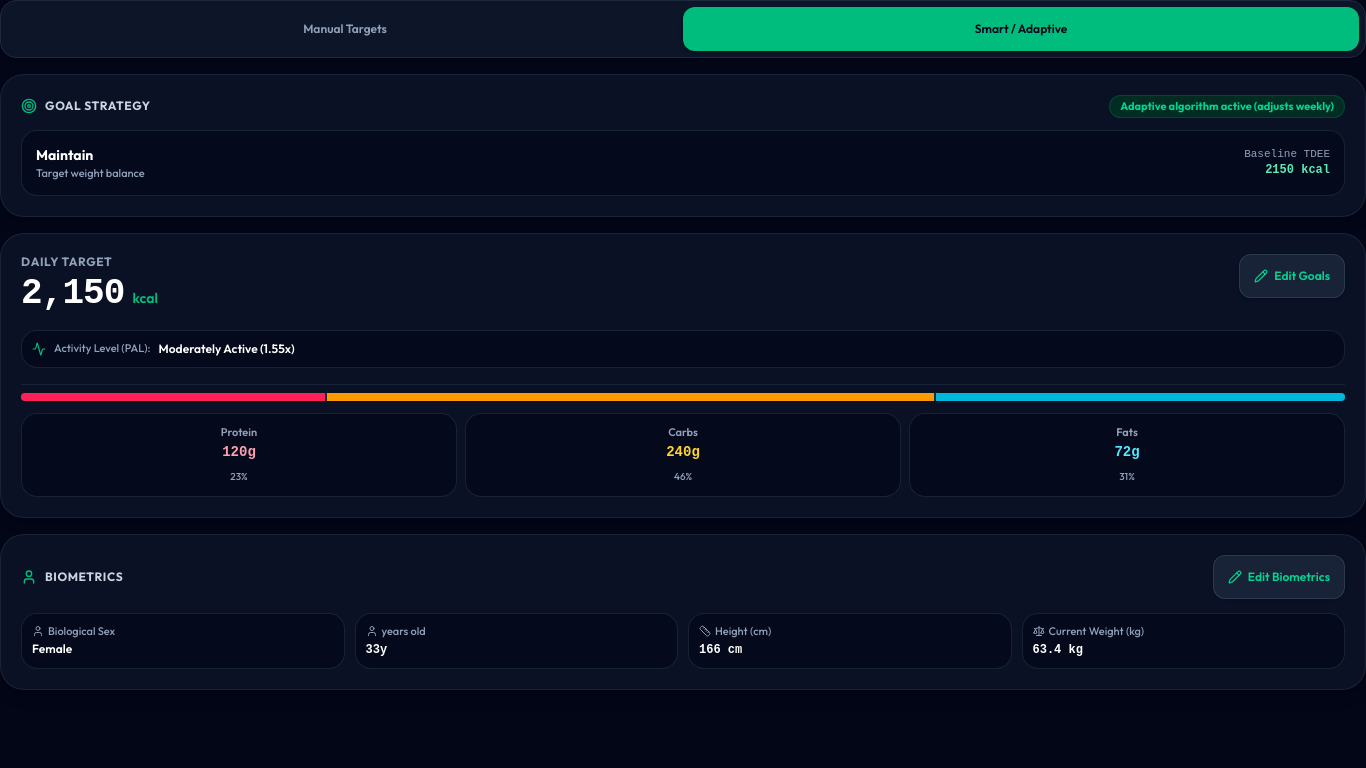
Test: Wave 5: Adaptive Expenditure & Weight Tracking UI Components › 6. Target Mode Selector (Manual vs Smart/Adaptive) in User Profile & Goals › reactively updates form fields when userSettings and weightLogs update after mount (e.g. after cloud sync)
# Open Biometrics Edit Modal to view reactive form fields
Click the button with test id "btn-edit-biometrics". click: (1279, 577)
box: [1213, 555, 1345, 599]
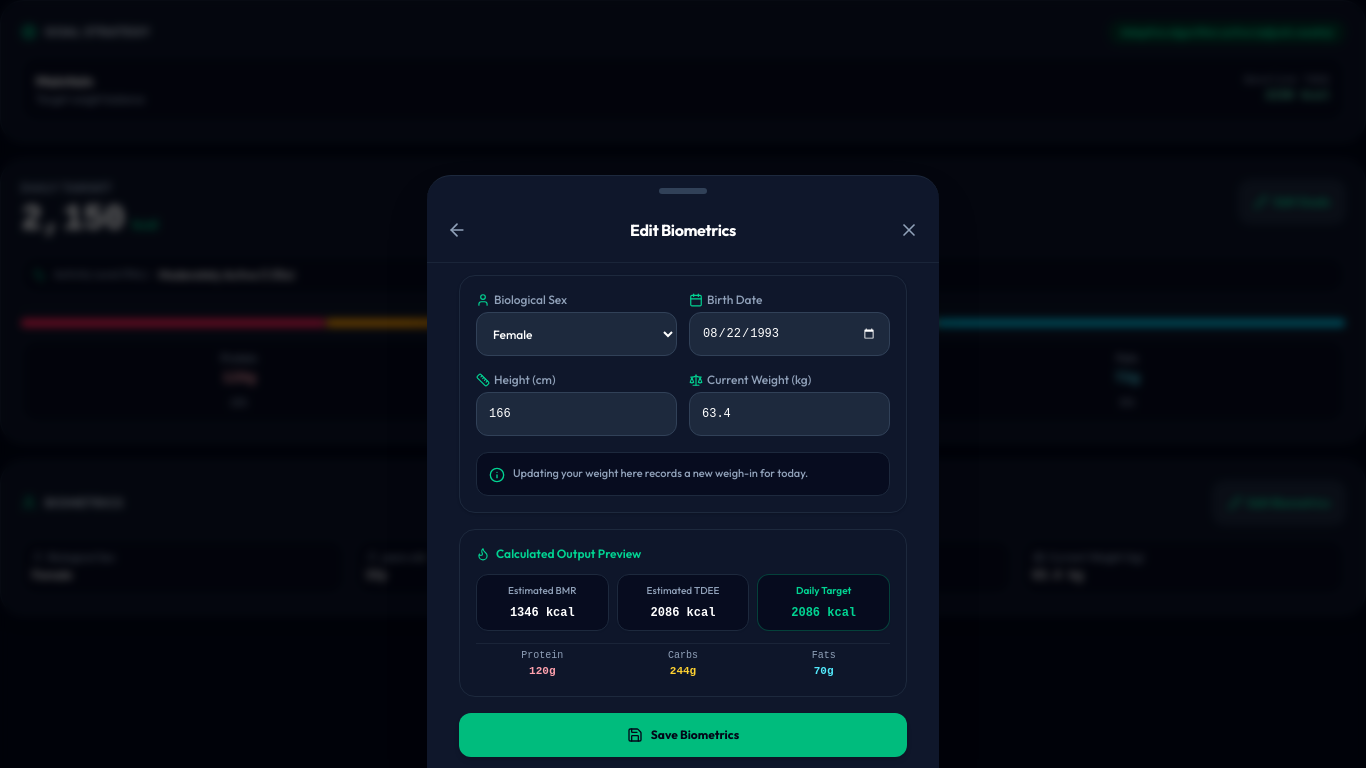
Now the dropdown with test id "select-biometrics-sex" shows "Female", box [476, 312, 677, 356]
Now the number field with test id "input-biometrics-height" holds "166", box [476, 392, 677, 436]
Now the number field with test id "input-biometrics-weight" holds "63.4", box [689, 392, 890, 436]
